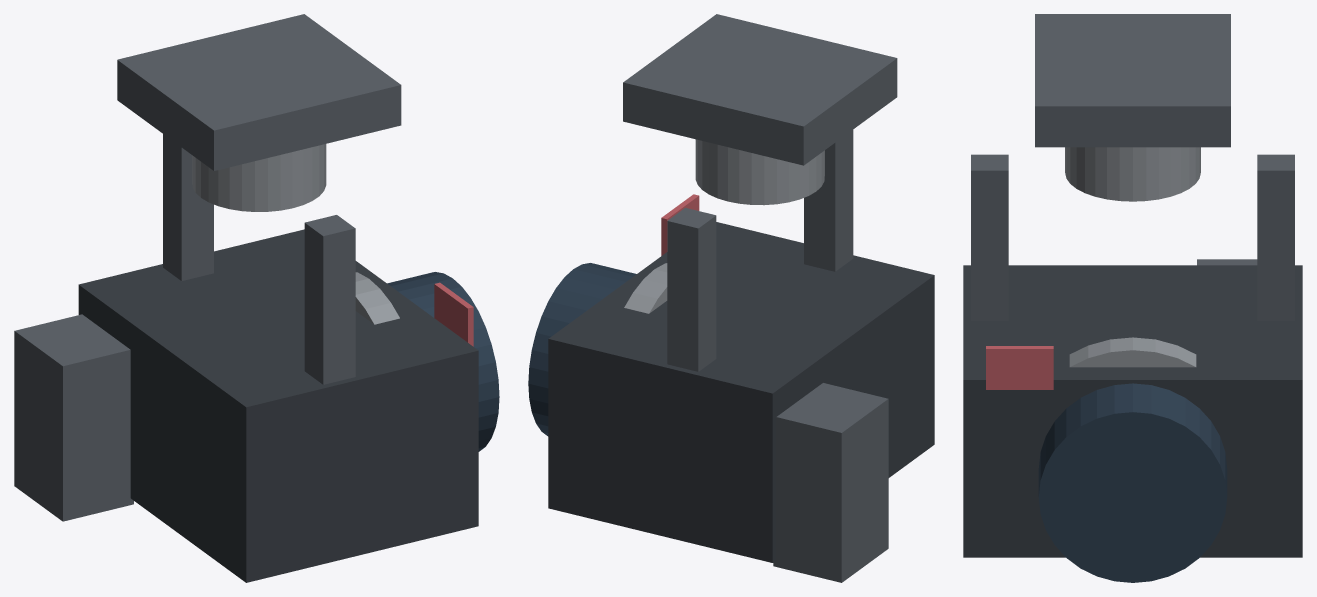
Rendered from payload_camera_300g.glb.
3 views of the same model, side by side, from view 1: azimuth 30°, elevation 25°; view 2: azimuth 150°, elevation 25°; view 3: azimuth 270°, elevation 25° (orthographic). The views are drawn at different scales.
Visible parts, largest first — view 1: camera_body, mount, grip, right_arm, yaw_joint, left_arm, lens, sensor_mark, lens_ring; view 2: camera_body, mount, grip, left_arm, yaw_joint, right_arm, lens, lens_ring, sensor_mark; view 3: camera_body, lens, mount, yaw_joint, left_arm, right_arm, lens_ring, sensor_mark.
Part boxes in pixels (bbox=[...]): camera_body: bbox=[78, 229, 478, 582]; mount: bbox=[117, 14, 401, 170]; grip: bbox=[14, 314, 133, 521]; right_arm: bbox=[304, 215, 355, 384]; yaw_joint: bbox=[192, 144, 326, 211]; left_arm: bbox=[163, 134, 213, 280]; lens: bbox=[387, 272, 499, 451]; sensor_mark: bbox=[434, 282, 473, 346]; lens_ring: bbox=[355, 272, 399, 324]; camera_body: bbox=[548, 222, 934, 562]; mount: bbox=[623, 14, 897, 165]; grip: bbox=[773, 383, 888, 582]; left_arm: bbox=[667, 208, 716, 371]; yaw_joint: bbox=[695, 139, 824, 205]; right_arm: bbox=[804, 130, 853, 271]; lens: bbox=[528, 263, 636, 436]; lens_ring: bbox=[624, 263, 667, 313]; sensor_mark: bbox=[661, 194, 699, 255]; camera_body: bbox=[963, 265, 1302, 557]; lens: bbox=[1038, 383, 1227, 582]; mount: bbox=[1035, 14, 1230, 147]; yaw_joint: bbox=[1065, 147, 1200, 201]; left_arm: bbox=[1257, 154, 1294, 320]; right_arm: bbox=[971, 154, 1008, 320]; lens_ring: bbox=[1069, 337, 1196, 367]; sensor_mark: bbox=[986, 346, 1053, 389].
Size of the model in its own units: 0.111 by 0.131 by 0.09.
